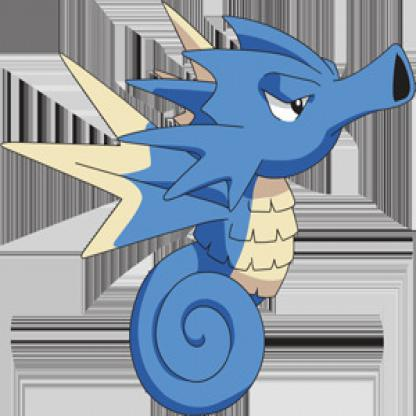Seadra: (38, 13, 416, 416)
